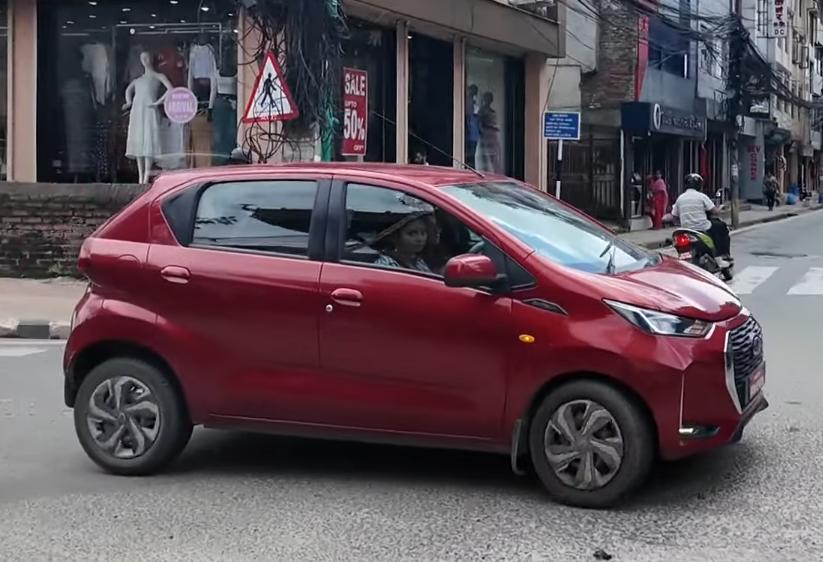car: (59, 157, 769, 509)
scooter: (670, 204, 737, 272)
